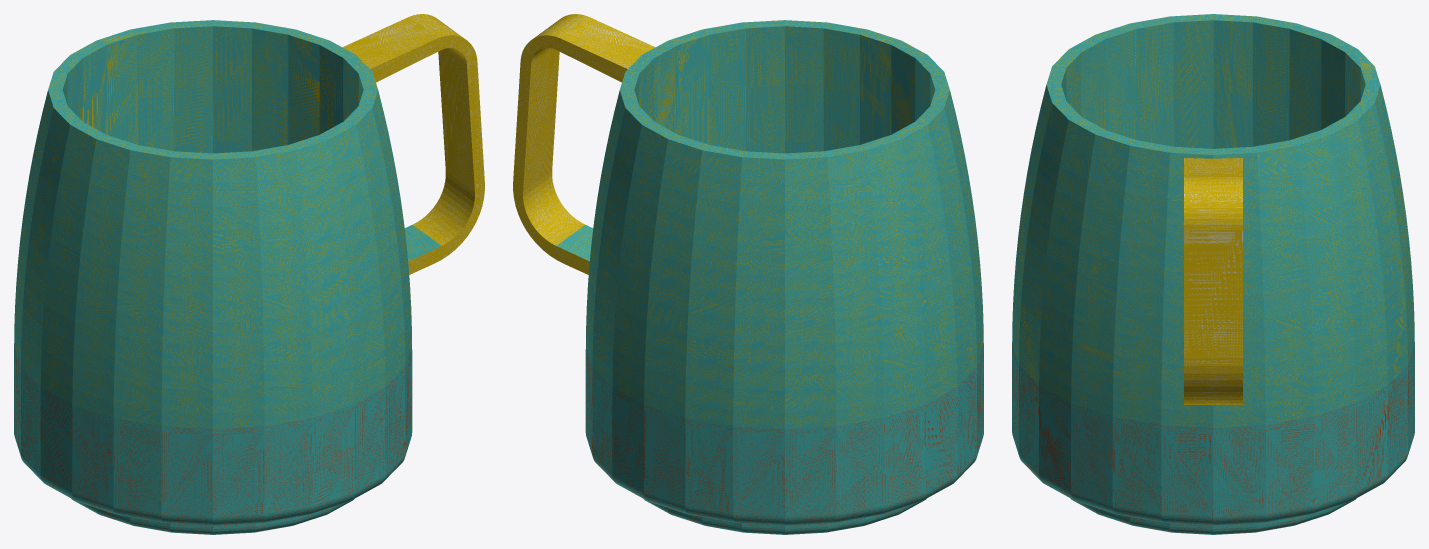
3 renders of one model, left to right at view 1: azimuth 30°, elevation 25°; view 2: azimuth 150°, elevation 25°; view 3: azimuth 270°, elevation 25°, orthographic.
Parts seen in each view (by area): view 1: mesh1_mesh1-geometry; view 2: mesh1_mesh1-geometry; view 3: mesh1_mesh1-geometry.
Boxes of the visible parts, x1,y1,x2,y2 form: mesh1_mesh1-geometry: [14, 14, 484, 534]; mesh1_mesh1-geometry: [513, 14, 983, 534]; mesh1_mesh1-geometry: [1012, 14, 1414, 534].
Bounding box in the file's own units: 0.646 × 0.5603 × 0.5184.
